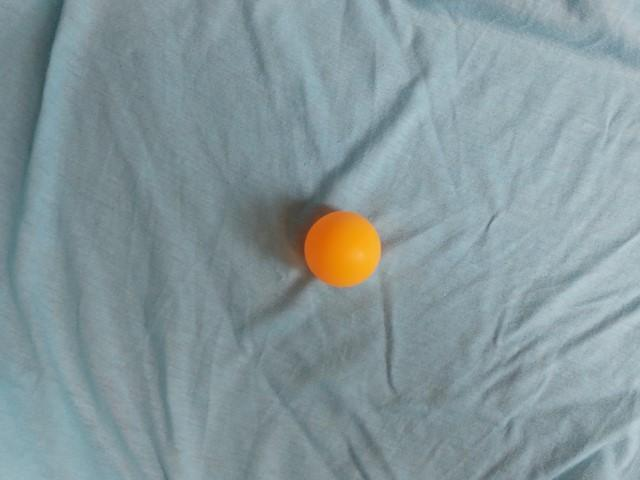oball: (249, 187, 341, 278)
